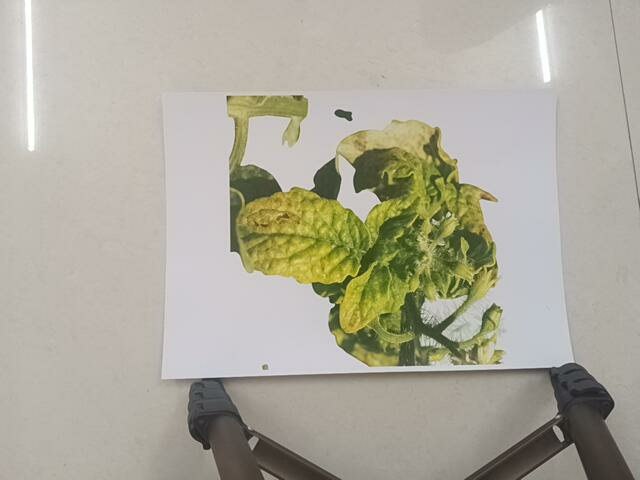Tomamto_Leaf_curl_virus: (220, 93, 539, 359)
